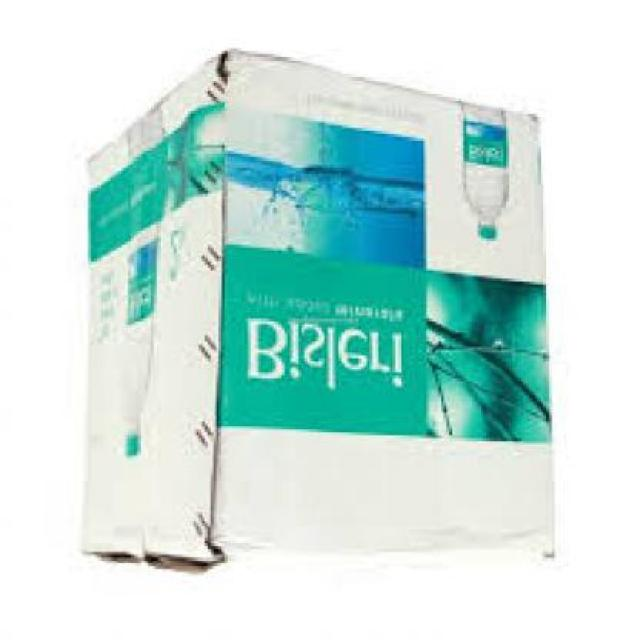CARDBOARD: (77, 54, 552, 574)
